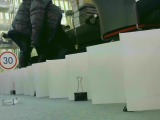speed_30: (1, 50, 18, 71)
